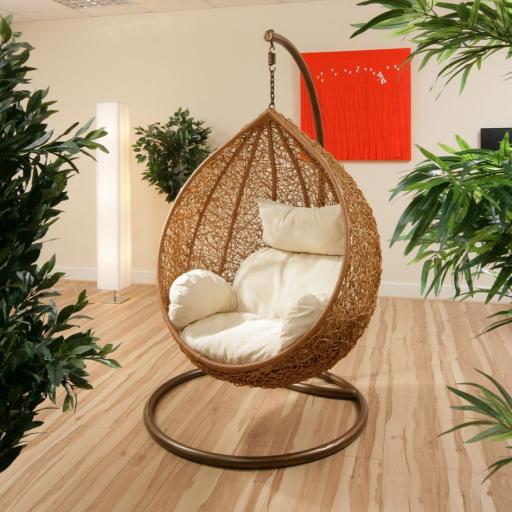chair: (143, 29, 382, 469)
wall: (1, 0, 512, 302)
